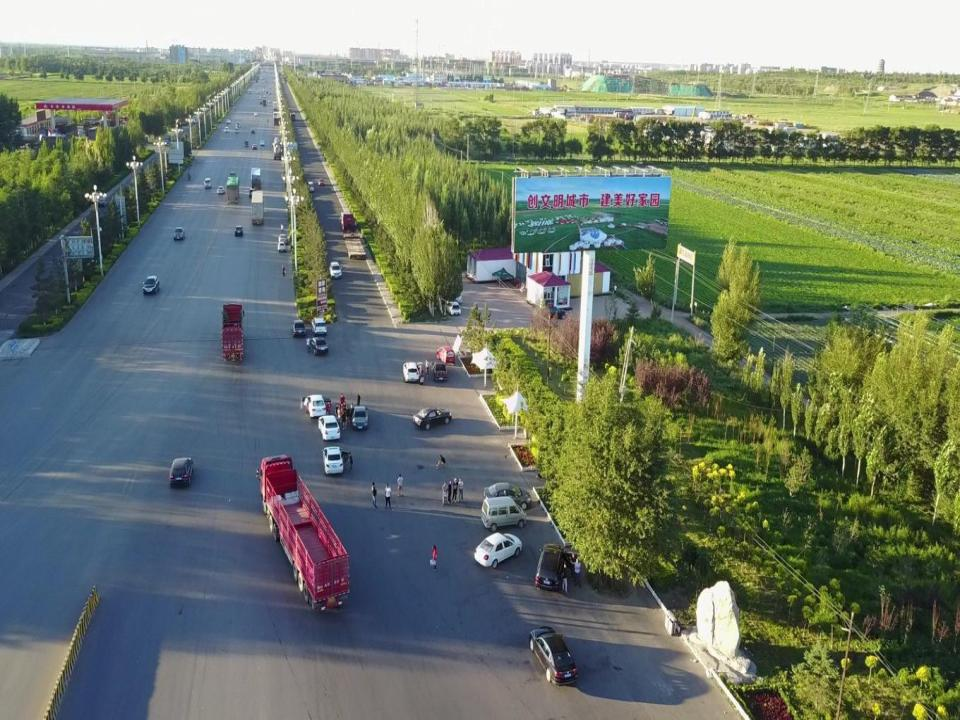car: (526, 624, 580, 687), (534, 541, 578, 593), (474, 532, 523, 569), (482, 481, 532, 509), (412, 406, 452, 430), (300, 390, 332, 418), (321, 446, 351, 474), (167, 456, 192, 484), (318, 415, 340, 441), (402, 361, 423, 383), (308, 335, 329, 356), (140, 274, 160, 295), (429, 358, 447, 381), (436, 344, 456, 364), (290, 319, 306, 337), (442, 290, 463, 303), (329, 260, 342, 280), (311, 316, 326, 332), (446, 298, 460, 314), (171, 226, 184, 242), (234, 224, 243, 236), (278, 233, 287, 244), (277, 241, 285, 252), (216, 185, 224, 194), (317, 178, 324, 186), (223, 126, 229, 133), (251, 143, 257, 149), (259, 139, 264, 146), (224, 118, 231, 123), (235, 121, 240, 128), (250, 128, 255, 134), (234, 126, 238, 133)
truck: (255, 455, 346, 612), (217, 302, 245, 362), (250, 190, 264, 225), (226, 174, 238, 203), (163, 131, 183, 146), (249, 166, 260, 187), (274, 141, 283, 160), (273, 136, 282, 154)
van: (480, 495, 527, 530), (339, 211, 354, 231), (204, 176, 213, 189), (306, 182, 314, 192), (243, 139, 248, 146)
